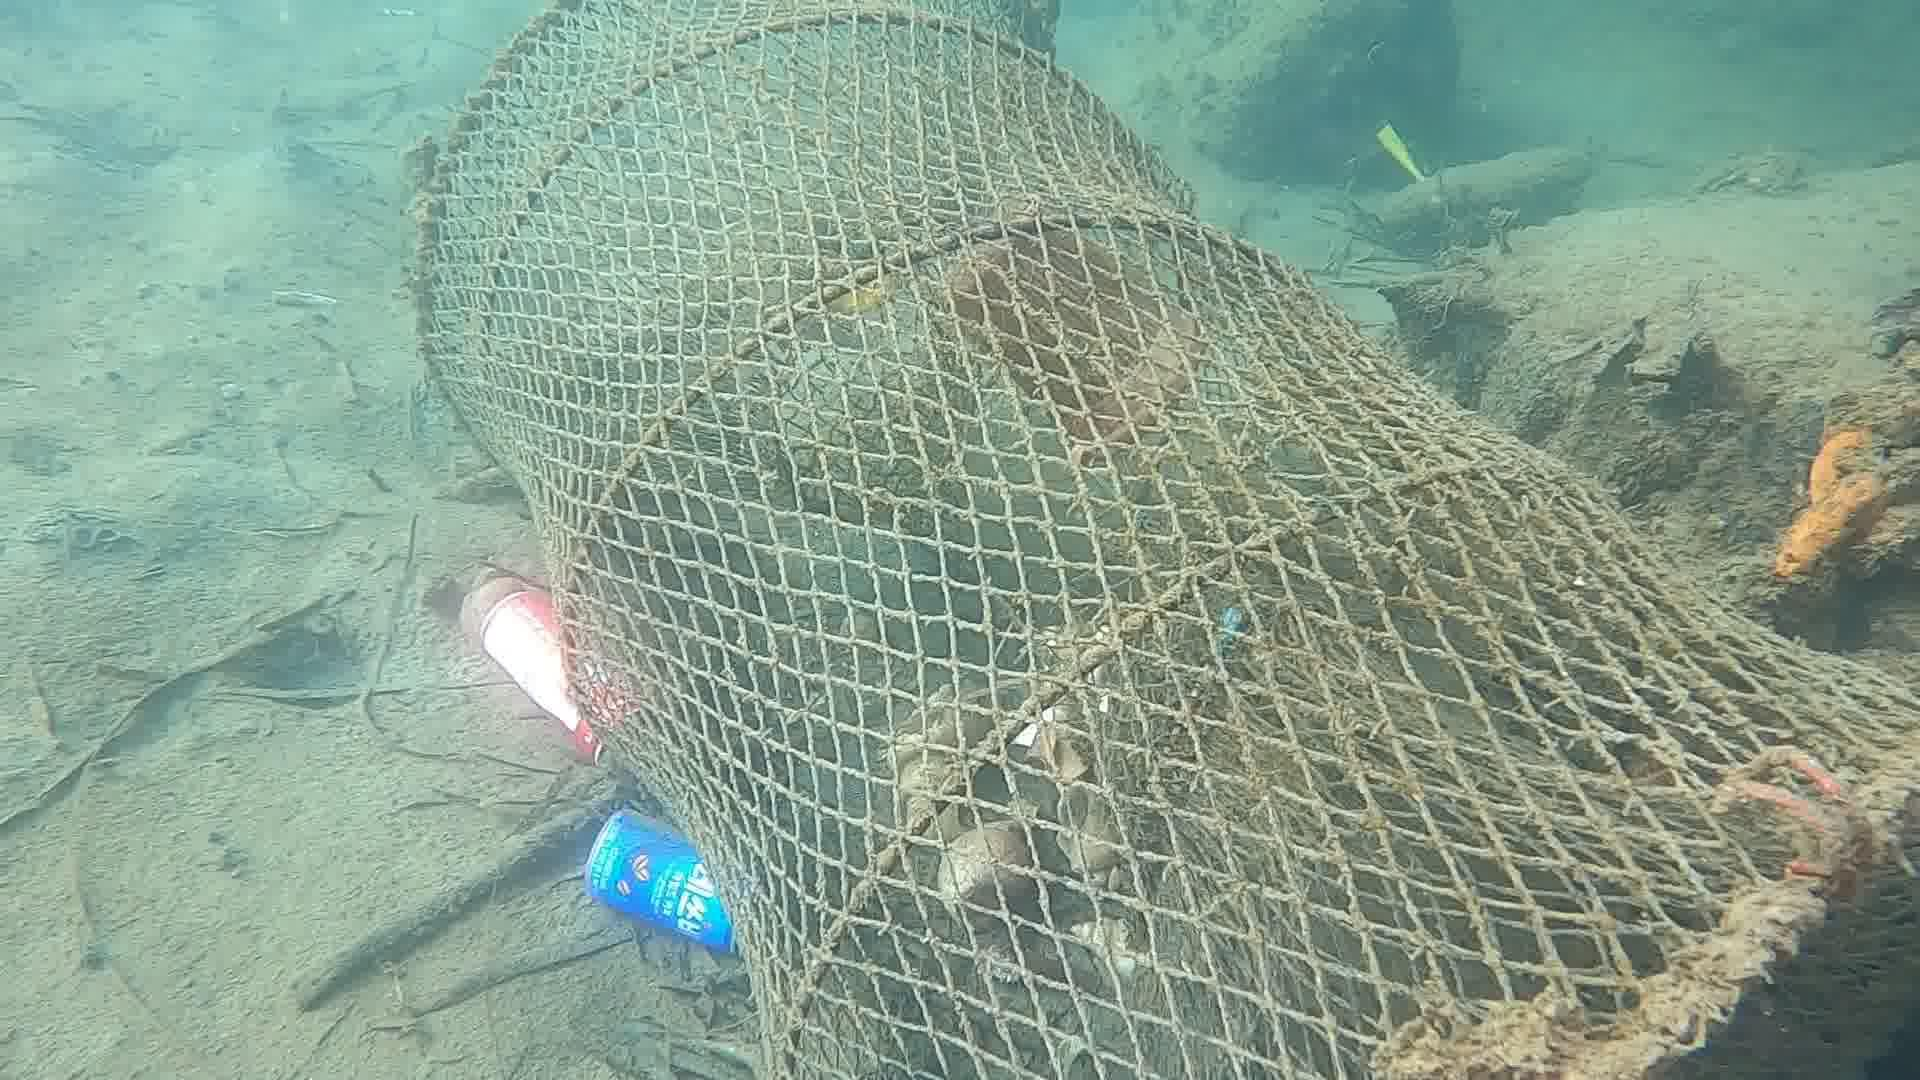spring fish trap: (410, 3, 1920, 1080)
